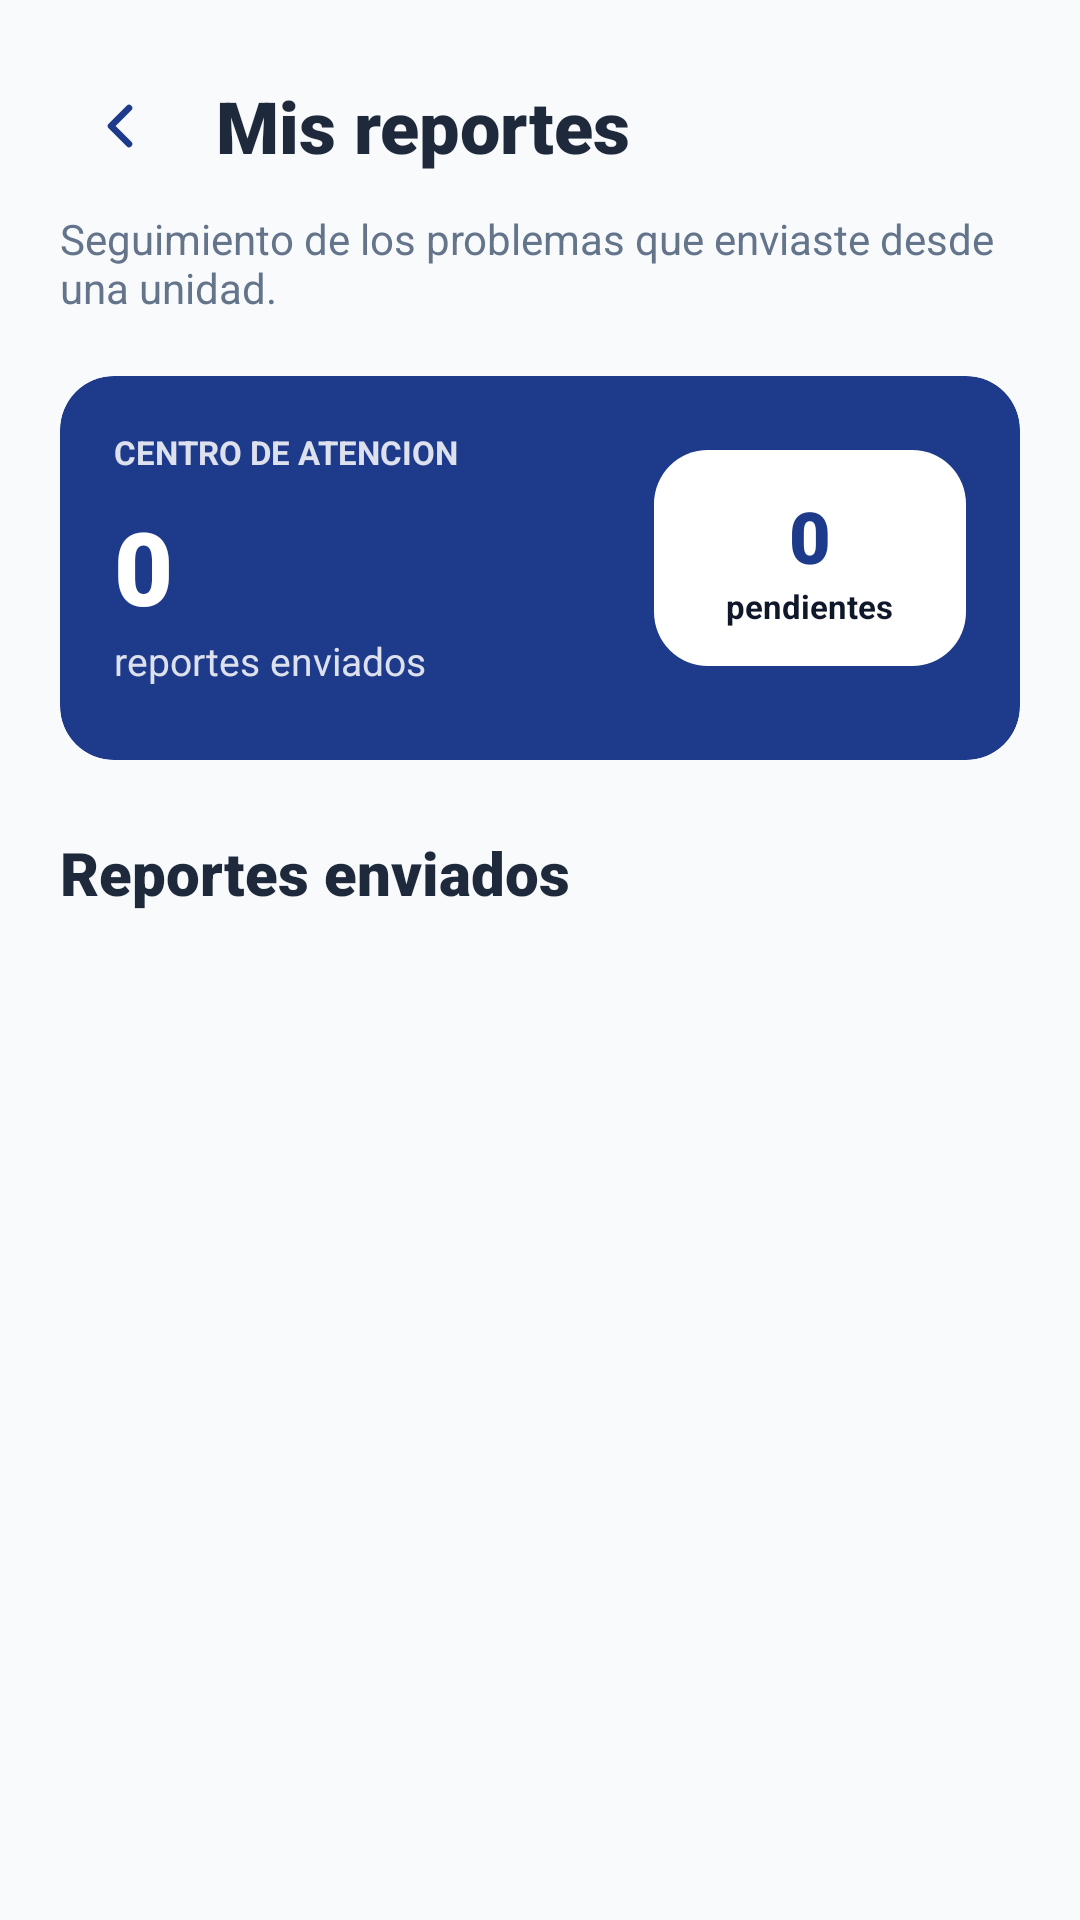

Screen size 1080 × 1920. Icon name, then its center in pixels as [x,y]:
back: [120,126]
